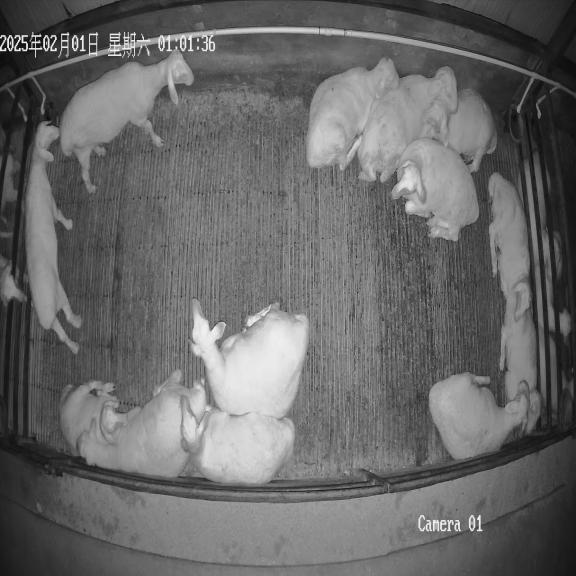lying: (190, 299, 309, 418), (79, 370, 207, 478), (357, 66, 457, 182), (306, 58, 399, 170), (181, 398, 295, 484), (429, 372, 531, 460), (392, 138, 479, 241), (488, 172, 531, 370), (59, 381, 140, 458), (424, 89, 497, 172), (499, 294, 541, 433), (521, 385, 526, 391)
stand: (58, 52, 194, 193), (25, 121, 82, 354)
